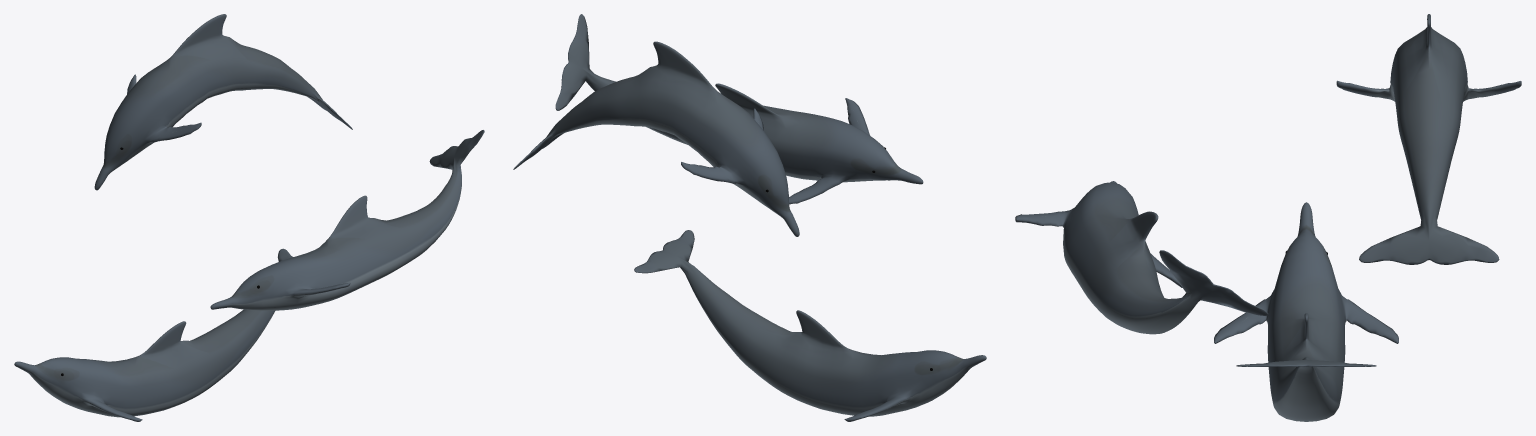
3 views of the same model, side by side, from view 1: azimuth 30°, elevation 25°; view 2: azimuth 150°, elevation 25°; view 3: azimuth 270°, elevation 25° (orthographic). The views are drawn at different scales.
Visible parts, largest first — view 1: Delfino.001, Delfino.002, Delfino; view 2: Delfino.002, Delfino, Delfino.001; view 3: Delfino, Delfino.002, Delfino.001.
Part boxes in pixels (left/top/right/bottom): Delfino.001: left=210, top=130, right=484, bottom=310; Delfino.002: left=14, top=248, right=292, bottom=421; Delfino: left=94, top=14, right=352, bottom=190; Delfino.002: left=634, top=230, right=986, bottom=421; Delfino: left=513, top=41, right=799, bottom=236; Delfino.001: left=555, top=14, right=923, bottom=204; Delfino: left=1336, top=14, right=1521, bottom=264; Delfino.002: left=1214, top=202, right=1398, bottom=421; Delfino.001: left=1015, top=181, right=1268, bottom=334.
Size of the model in its own units: 7.73 by 5.88 by 5.85.
1 material, 1 textured.
